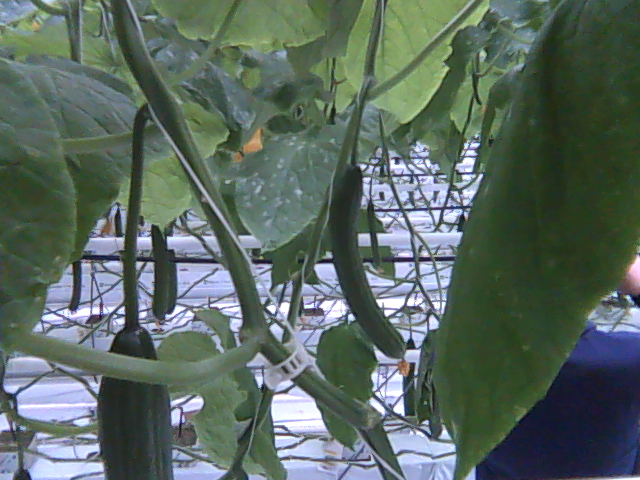concombre: (94, 318, 182, 480)
